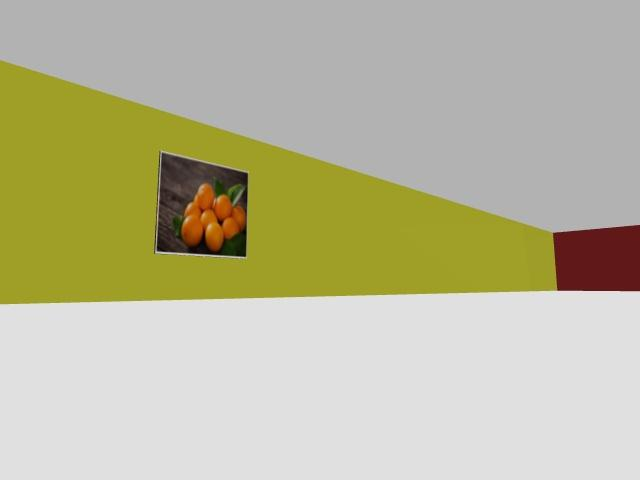orange: (181, 214, 203, 246), (205, 222, 223, 252), (214, 194, 232, 221), (196, 183, 213, 210), (222, 217, 239, 239), (232, 205, 246, 231), (201, 209, 217, 228), (184, 202, 201, 217), (211, 197, 216, 213), (212, 196, 215, 210), (193, 193, 197, 203)
